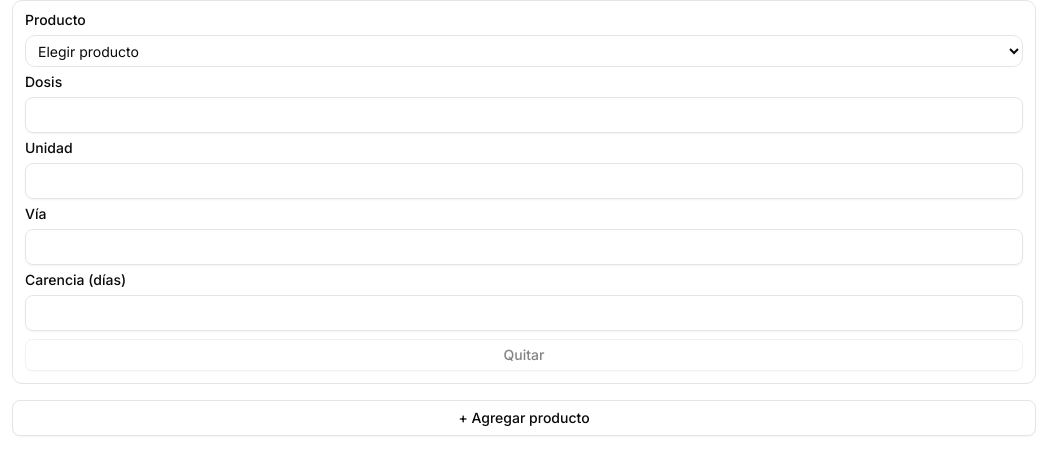
ProductListEditor › pre-fills dose, unit, route, and withdrawal days when picking an existing catalog product
Step 1. Select "Ivermectina 1%" in the dropdown labelled "Producto" → point(524, 51), box top-left (25, 35), bottom-right (1023, 67)
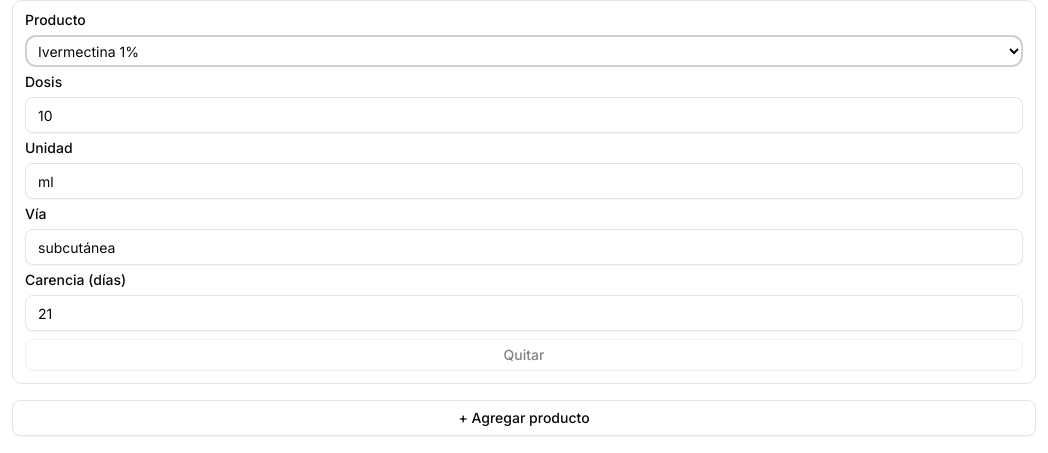
Result: the field labelled "Dosis" holds "10" at top-left (25, 97), bottom-right (1023, 133)
Result: the field labelled "Unidad" holds "ml" at top-left (25, 163), bottom-right (1023, 199)
Result: the field labelled "Vía" holds "subcutánea" at top-left (25, 229), bottom-right (1023, 265)
